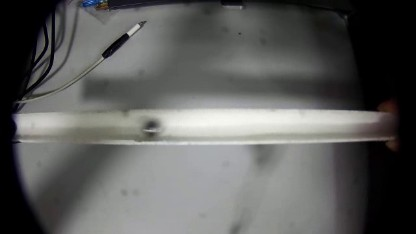gangzhu: (140, 117, 160, 137)
